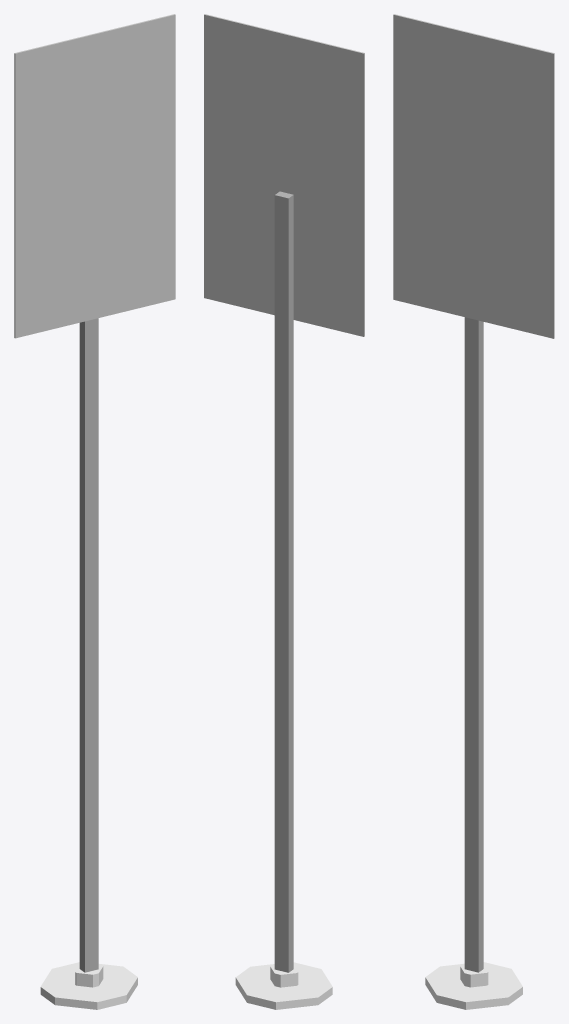
File: Roadwork_Sign_2.fbx
3 renders of one model, left to right at view 1: azimuth 30°, elevation 25°; view 2: azimuth 150°, elevation 25°; view 3: azimuth 330°, elevation 25°, orthographic.
Parts seen in each view (by area): view 1: Plane.015, Plane.013; view 2: Plane.015, Plane.013; view 3: Plane.015, Plane.013.
Part boxes in pixels (left/top/right/bottom): Plane.015: left=14, top=14, right=175, bottom=338; Plane.013: left=40, top=318, right=137, bottom=1009; Plane.015: left=204, top=14, right=364, bottom=336; Plane.013: left=235, top=191, right=332, bottom=1009; Plane.015: left=393, top=14, right=554, bottom=338; Plane.013: left=425, top=317, right=522, bottom=1009.
Bounding box in the file's own units: 38.22 × 218 × 18.8.
